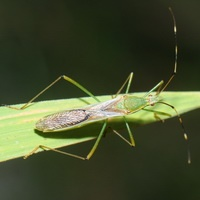insect: (0, 0, 199, 103), (38, 81, 85, 100)
